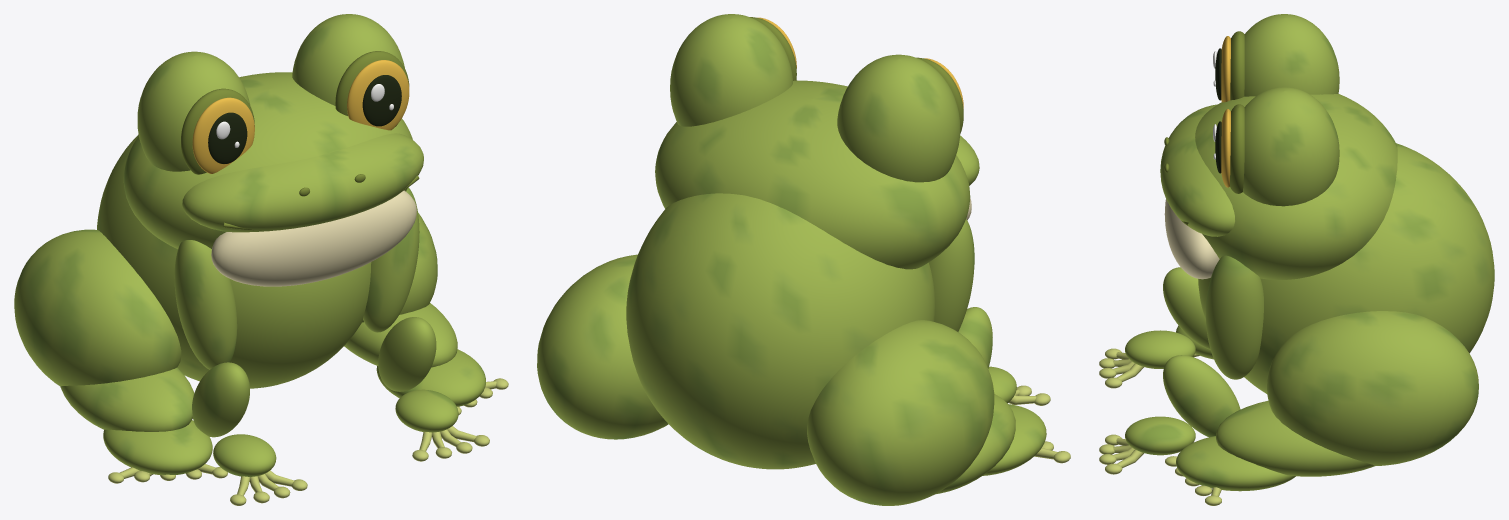
The model's file is woodland_frog_character.glb.
3 renders of one model, left to right at view 1: azimuth 30°, elevation 25°; view 2: azimuth 150°, elevation 25°; view 3: azimuth 270°, elevation 25°, orthographic. The views are drawn at different scales.
Visible parts, largest first — view 1: Woodland_Frog; view 2: Woodland_Frog; view 3: Woodland_Frog.
Part boxes in pixels (x1,y1,x2,y2): Woodland_Frog: (14,14,508,505); Woodland_Frog: (537,14,1070,505); Woodland_Frog: (1099,14,1494,505).
Size of the model in its own units: 2.01 by 1.81 by 1.79.
